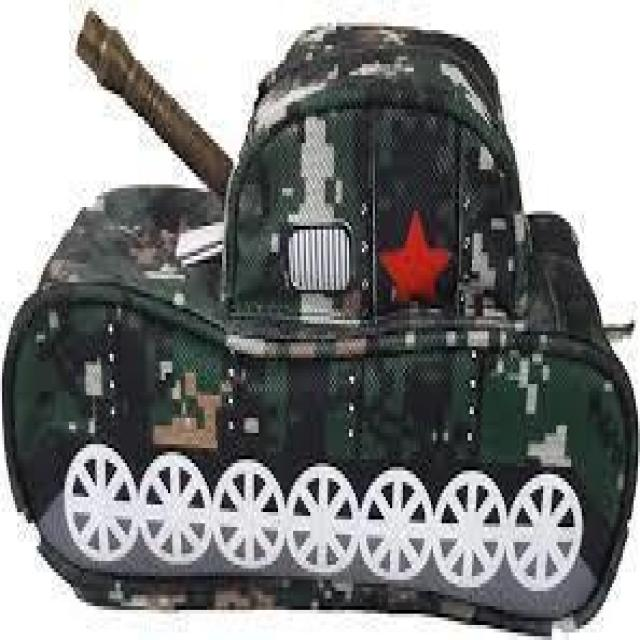Tanks: (10, 6, 572, 623)
